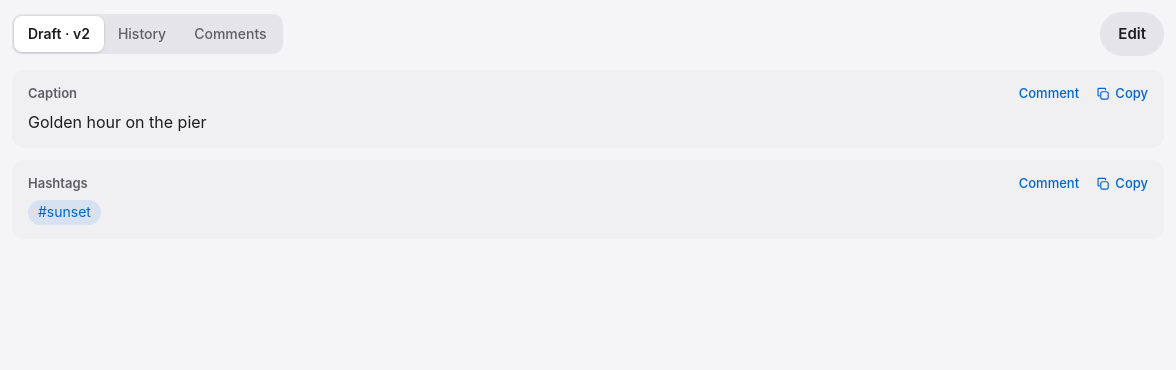
Test: DraftPanel › shows what changed between versions and restores an older one
Later steps or results of the test are not shown.
Click the radio button labelled "History" at (142, 34), box [104,16,180,52]
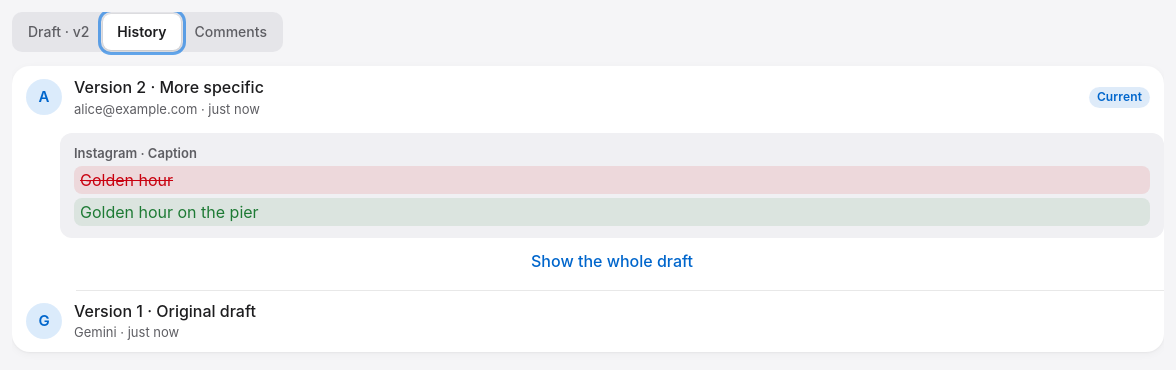
Expected: the heading "Instagram · Caption" is shown, [74,145,197,161]
Expected: the text "Version 2 · More specific" is shown, [74,77,264,97]
